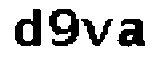9: (47, 6, 81, 52)
a: (115, 18, 148, 46)
d: (7, 6, 44, 51)
v: (80, 16, 116, 47)
